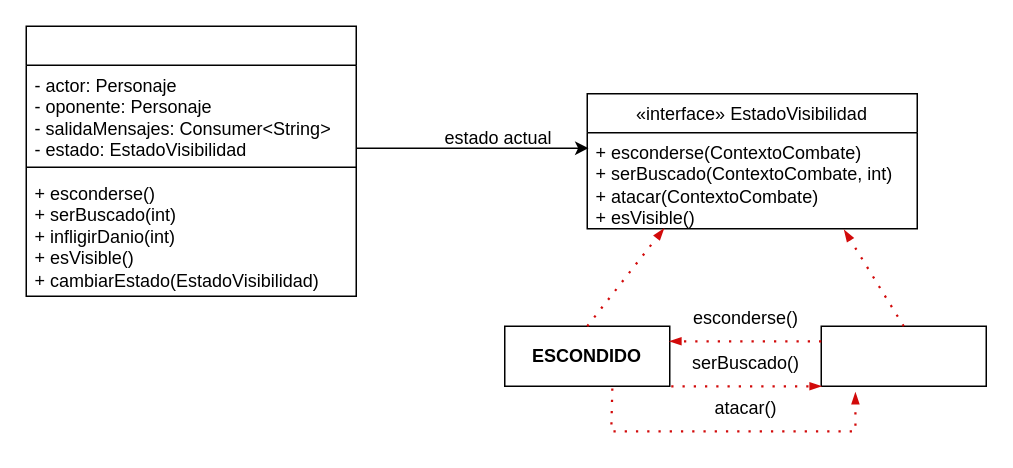
Some shapes in this 1013 by 468 pixel diagram are drawn without their labels. Each missing label, with the box of its shape:
ContextoCombate: (25, 25, 356, 296)
VISIBLE: (820, 325, 986, 386)
